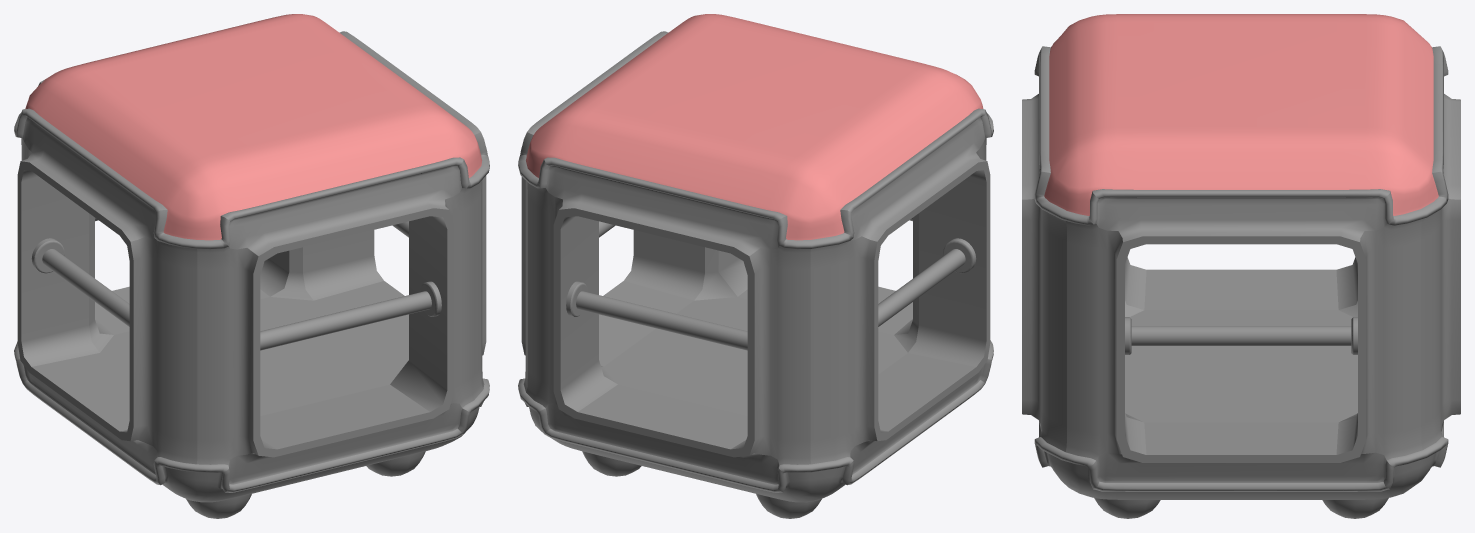
The model's file is PlatformToy_01.gltf.
3 views of the same model, side by side, from view 1: azimuth 30°, elevation 25°; view 2: azimuth 150°, elevation 25°; view 3: azimuth 270°, elevation 25° (orthographic). The views are drawn at different scales.
Visible parts, largest first — view 1: PlatformToy_01; view 2: PlatformToy_01; view 3: PlatformToy_01.
Part boxes in pixels (x1,y1,x2,y2): PlatformToy_01: (14,14,489,518); PlatformToy_01: (518,14,993,518); PlatformToy_01: (1022,14,1460,518).
Bounding box in the file's own units: 6.34 × 6.3 × 6.34.
